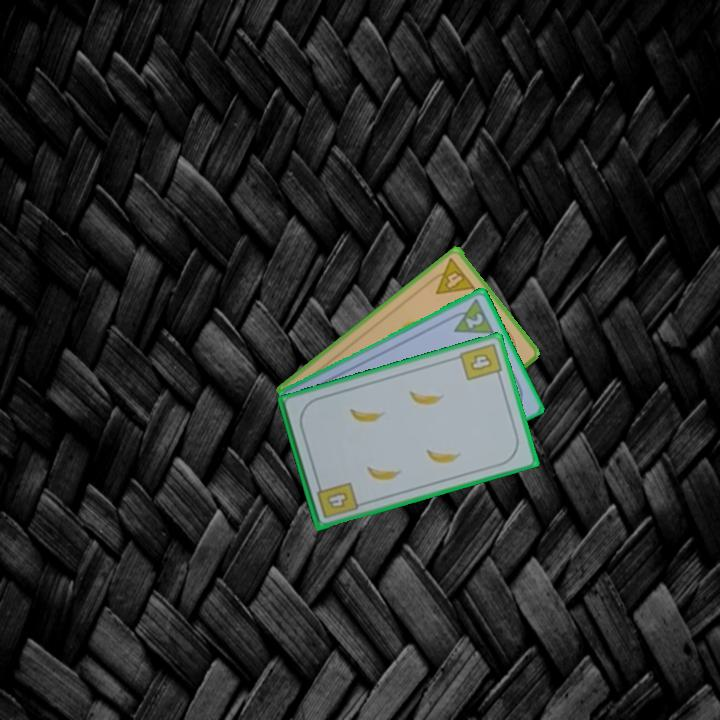2p: (445, 294, 497, 337)
4b: (456, 339, 505, 383), (313, 478, 361, 521)
4p: (425, 254, 478, 297)
